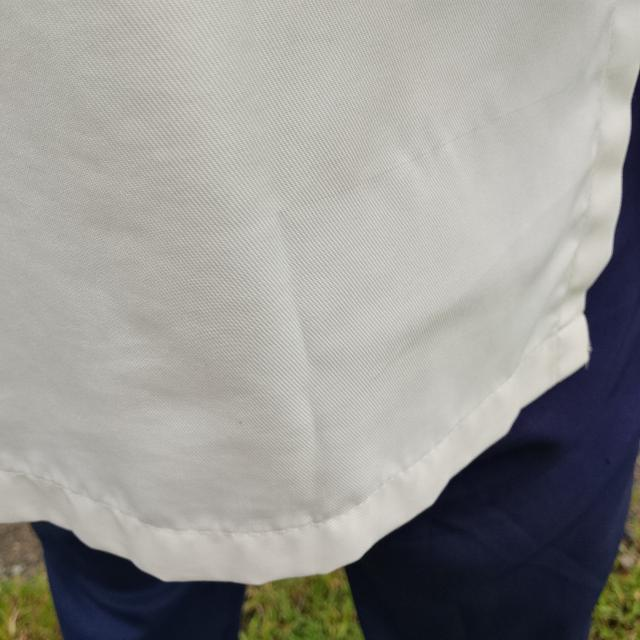education_male_uniform: (0, 8, 640, 595)
